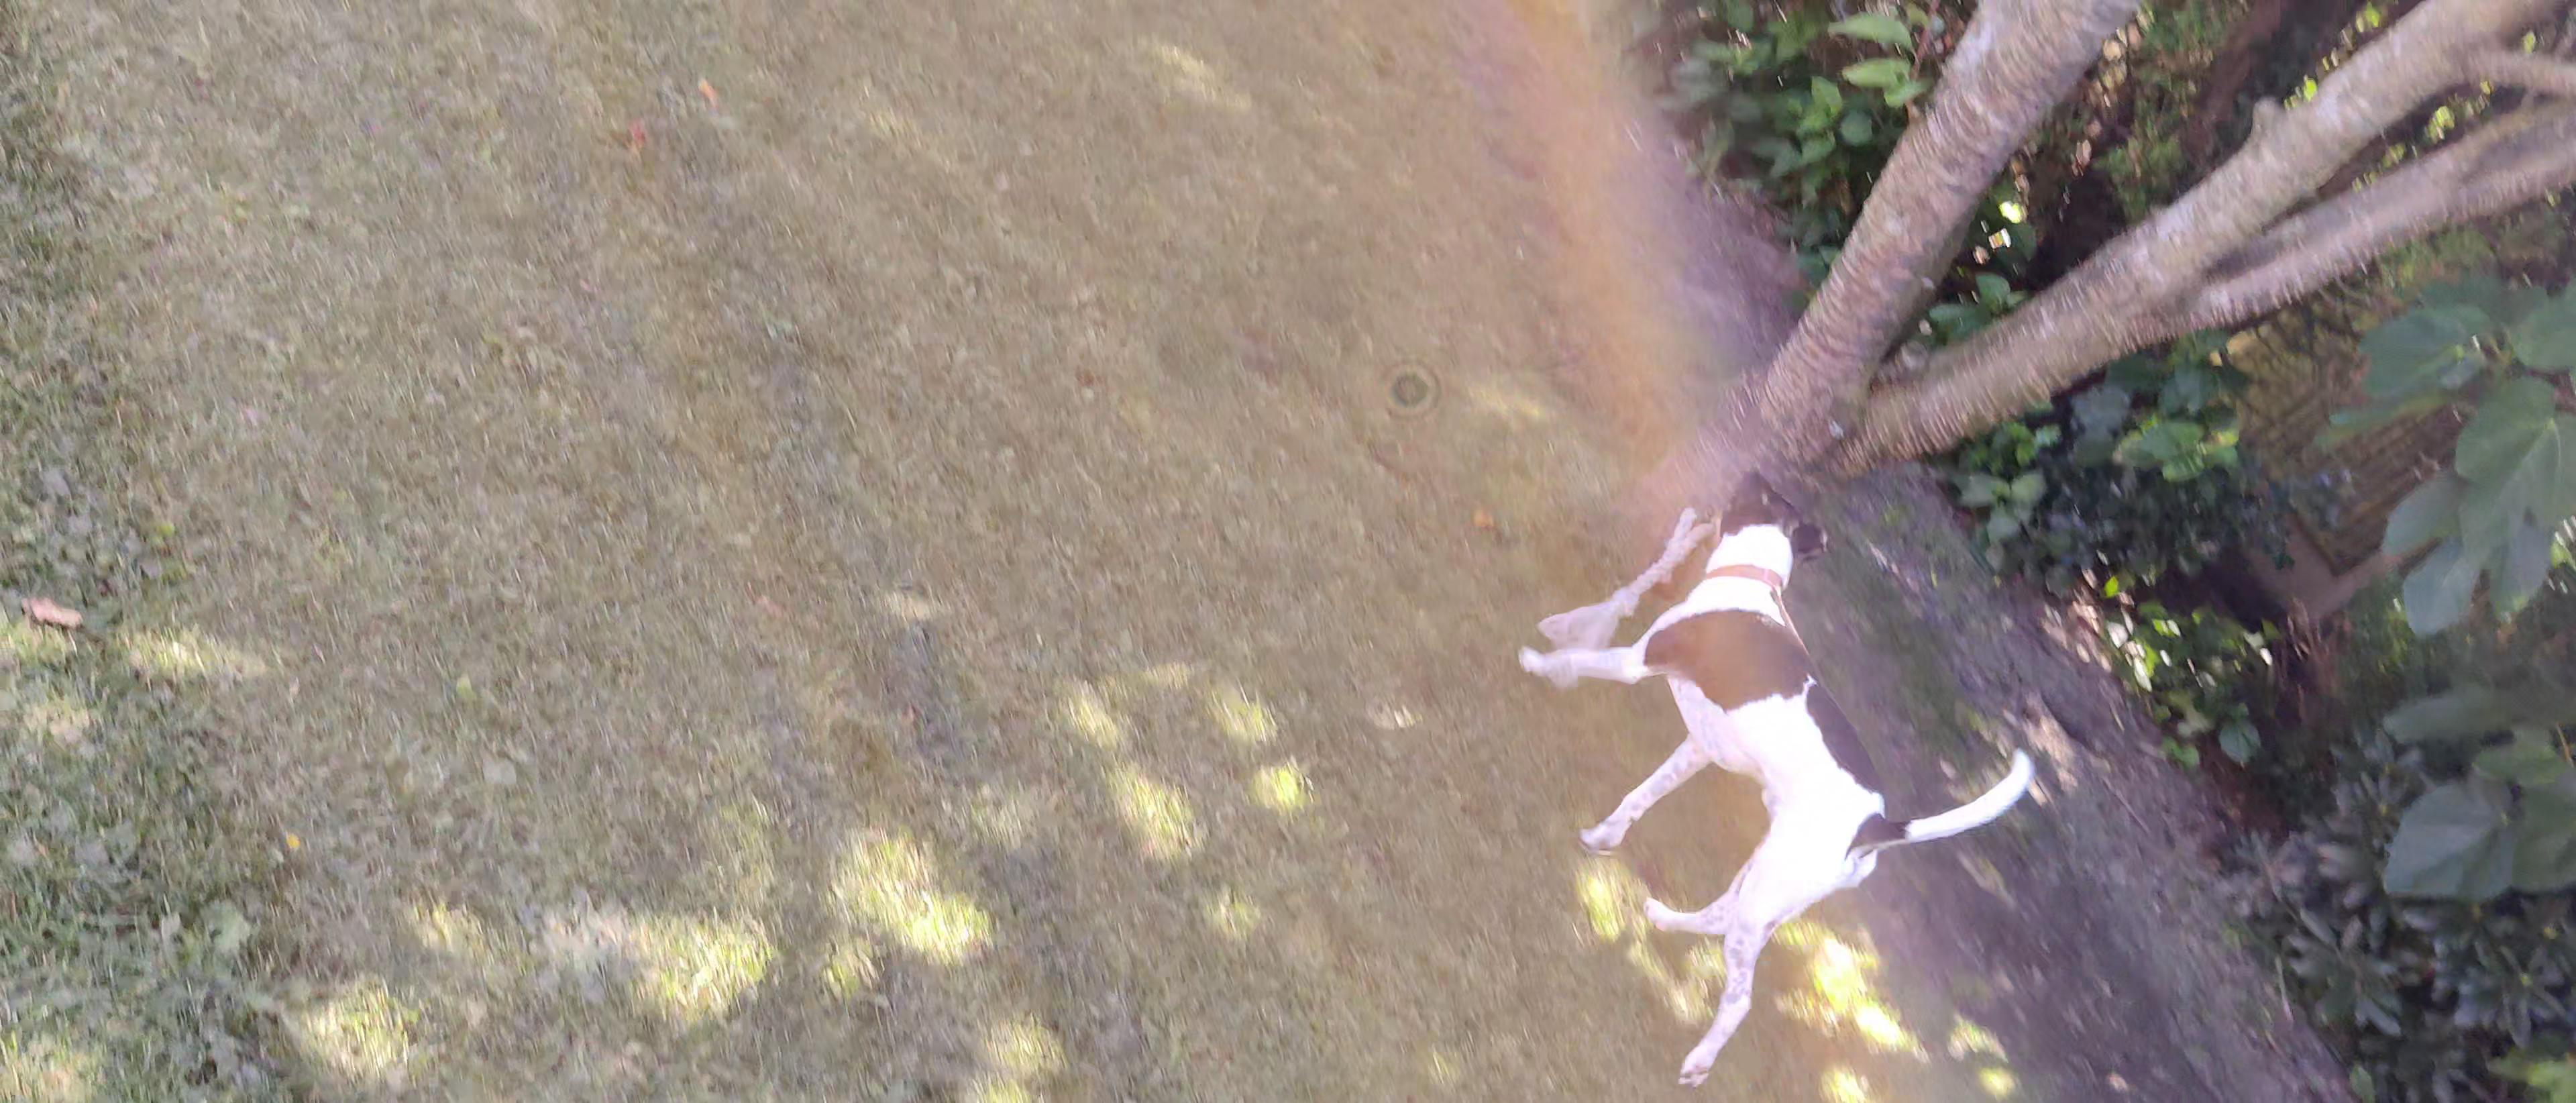Dog: (1513, 460, 2042, 1093)
